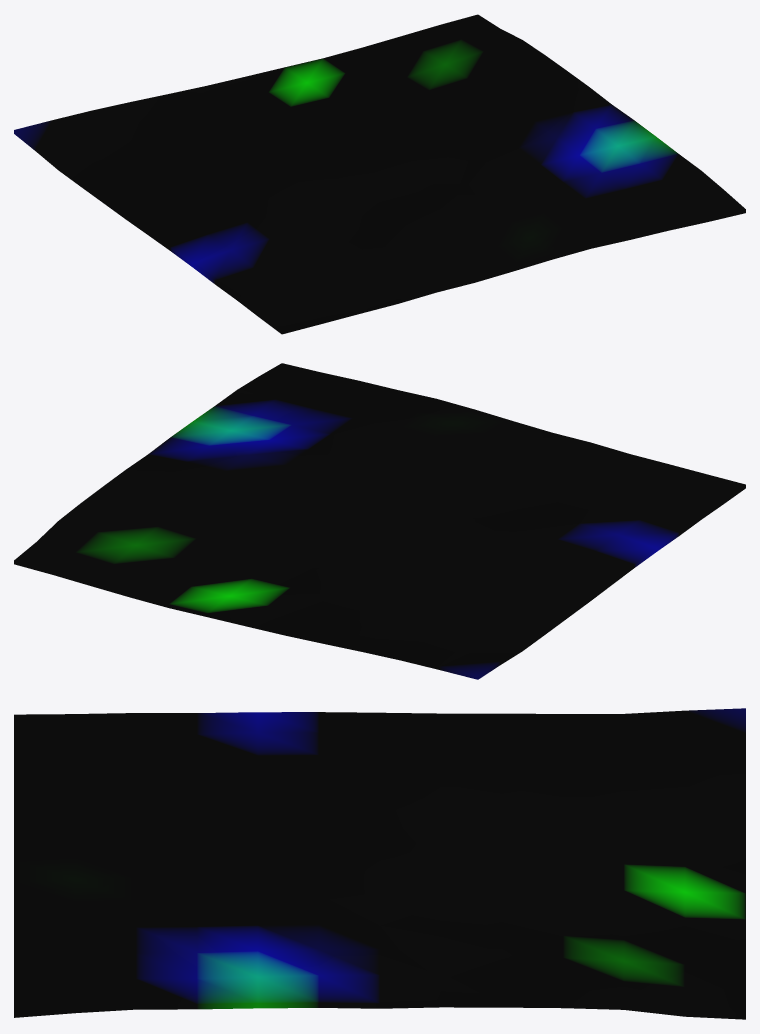
File: coast_7_4.glb
3 renders of one model, top to bottom at view 1: azimuth 30°, elevation 25°; view 2: azimuth 150°, elevation 25°; view 3: azimuth 270°, elevation 25°, orthographic. The views are drawn at different scales.
Parts seen in each view (by area): view 1: terrain; view 2: terrain; view 3: terrain.
Boxes of the visible parts, x1,y1,x2,y2 form: terrain: [14, 14, 745, 334]; terrain: [14, 363, 745, 679]; terrain: [14, 708, 745, 1019].
Size of the model in its own units: 192 by 8.18 by 192.
